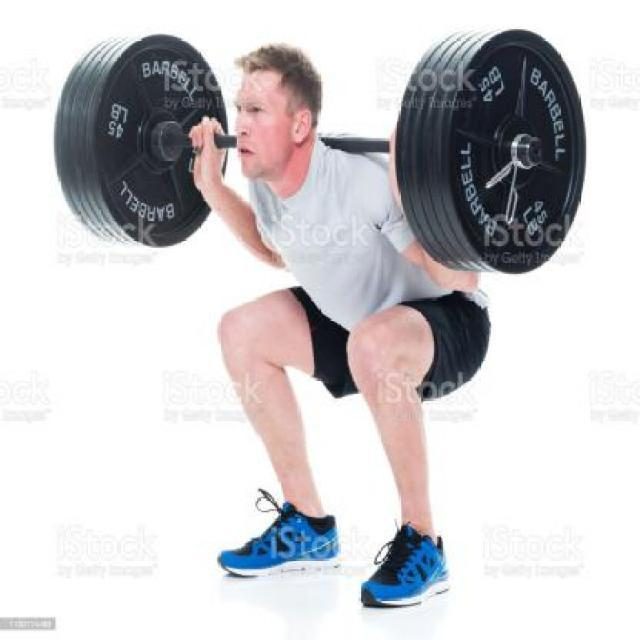Barbell: (524, 136, 544, 170)
